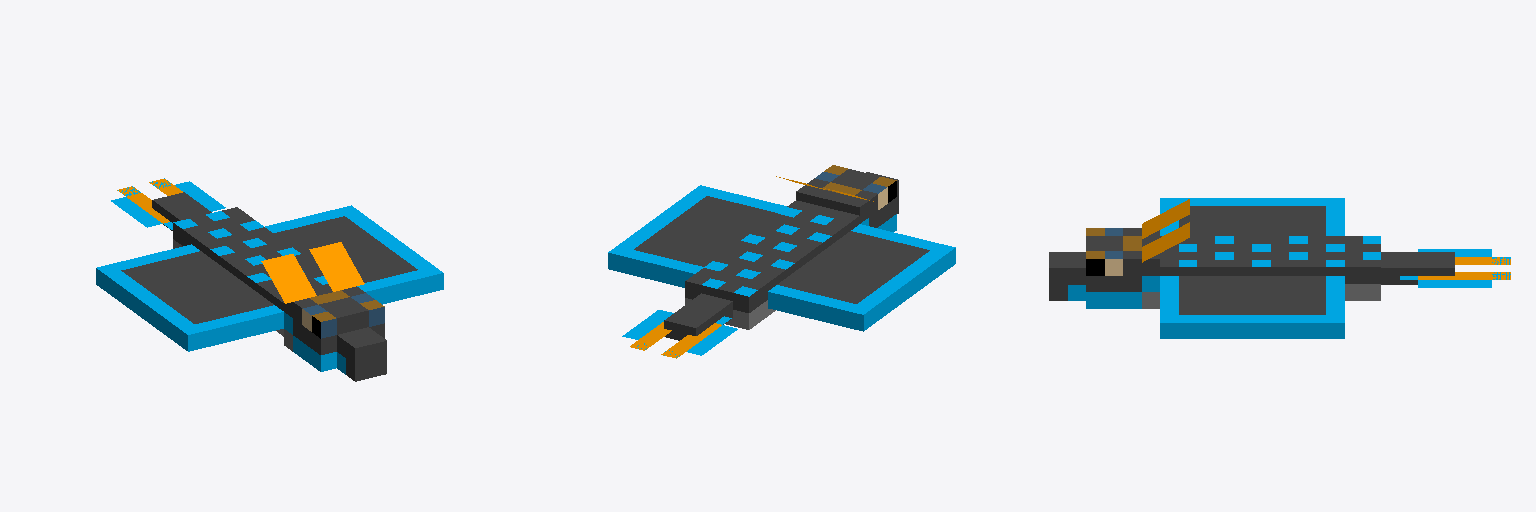
3 views of the same model, side by side, from view 1: azimuth 30°, elevation 25°; view 2: azimuth 150°, elevation 25°; view 3: azimuth 270°, elevation 25° (orthographic).
Parts seen in each view (by area): view 1: cube; view 2: cube; view 3: cube.
Boxes of the visible parts, <box> form: cube: <box>96,178,443,381</box>; cube: <box>608,165,955,358</box>; cube: <box>1049,198,1510,338</box>.
Size of the model in its own units: 1 by 0.2812 by 1.56.
Materials: 1 (1 with a texture image).